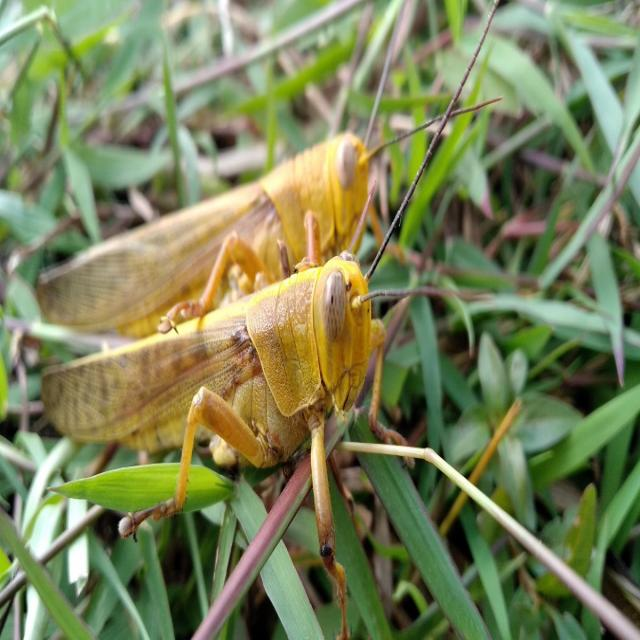ZhaMeng: (36, 229, 412, 502), (23, 122, 386, 350)
